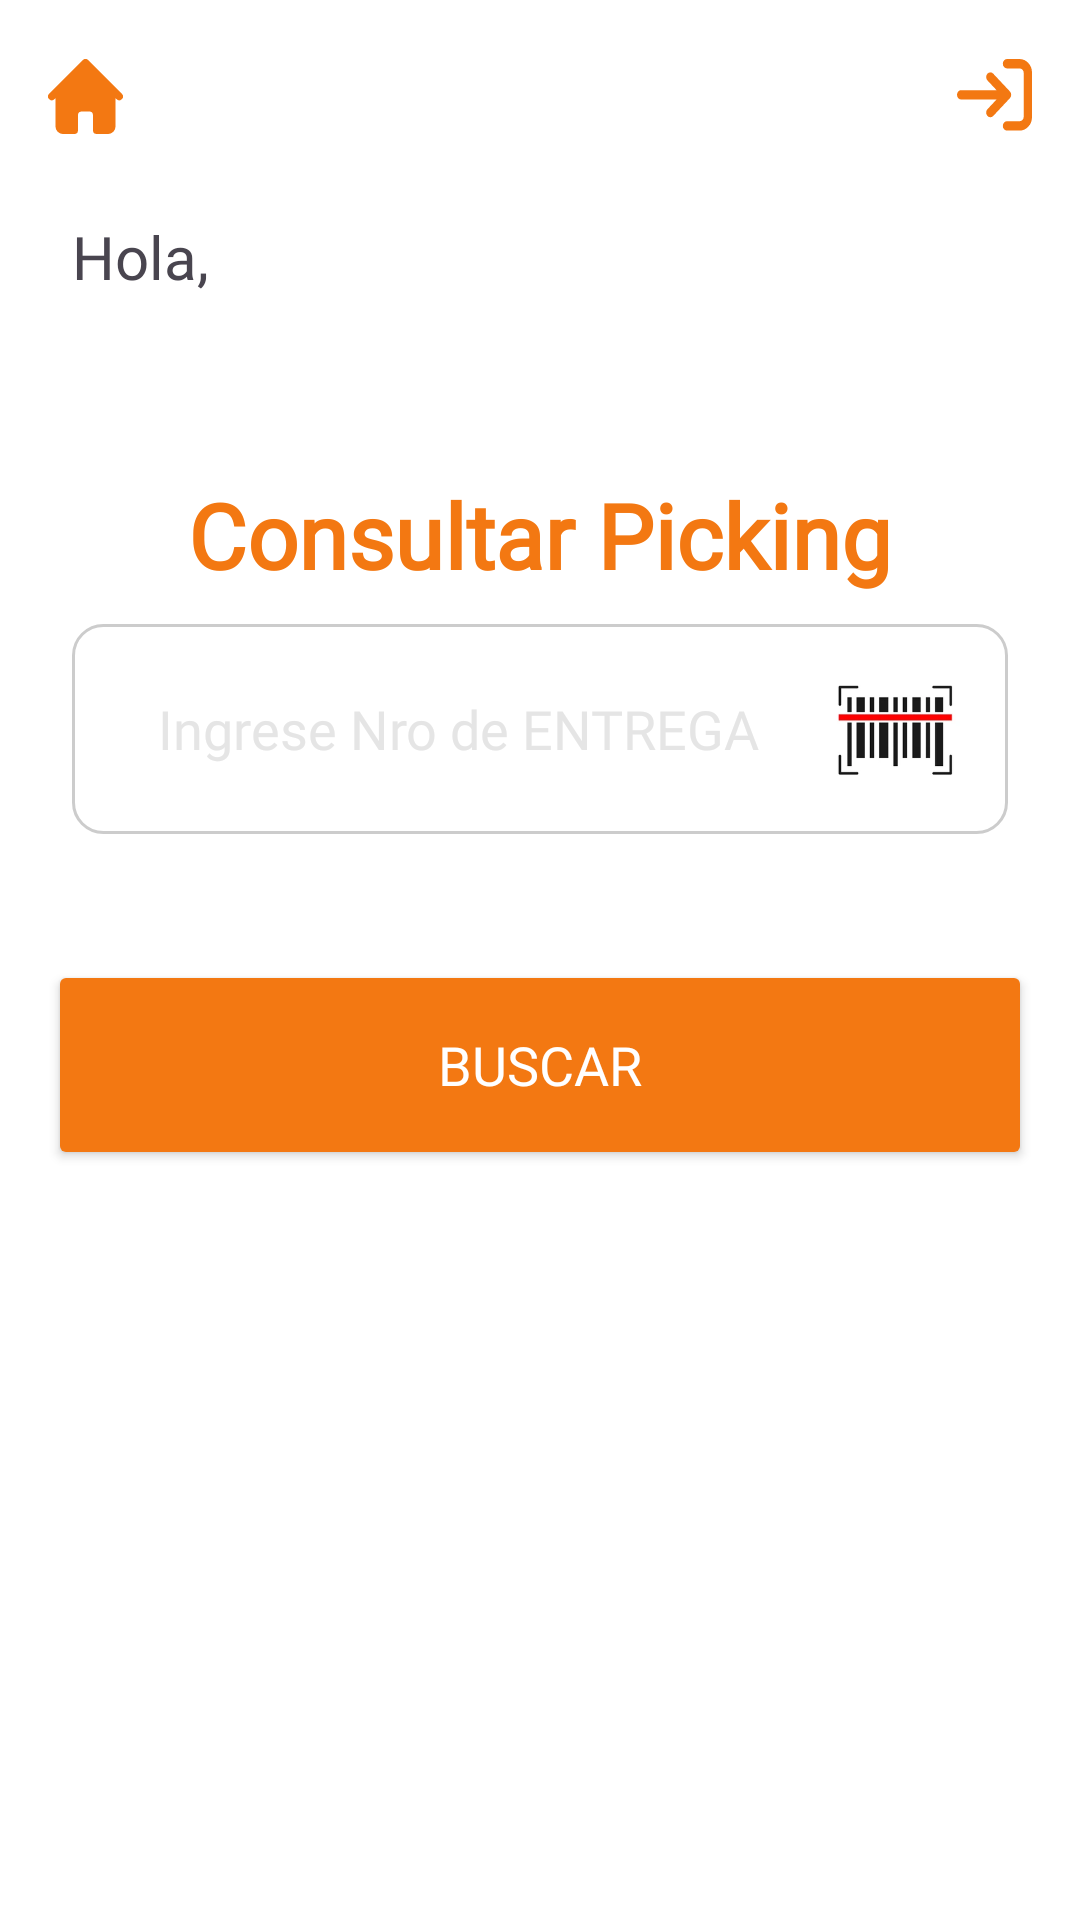

Locate icon controls on the screen. Image size 1080x1920, boxes as detection(x1, y1, x2, y2).
barcode: detection(838, 685, 953, 775)
home: detection(48, 59, 123, 134)
